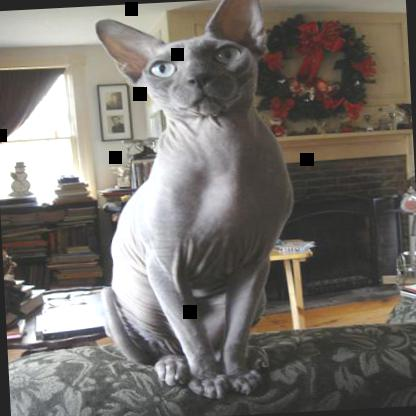cat: (85, 0, 306, 406)
